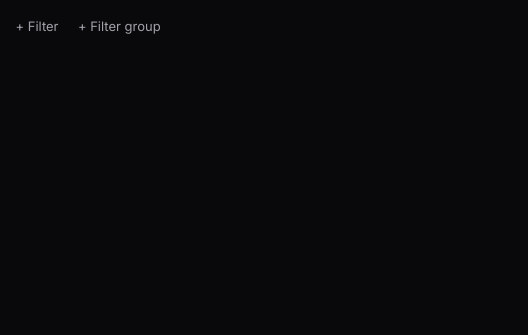
Test: FilterEditor › test property and operator are menus: icon + name rows, a check on the current one
Click the button "+ Filter": (37, 27) [8,14,66,41]
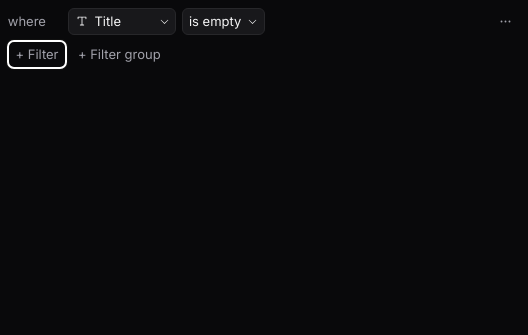
Click the button with aria-label "Property": (122, 21) [68,8,176,35]
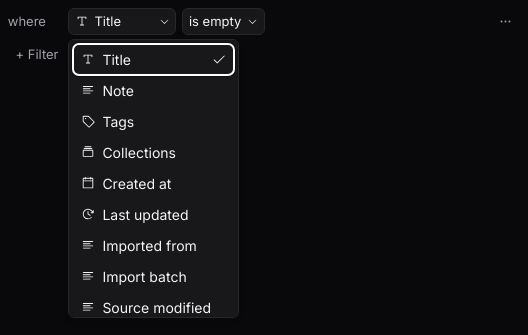
Click the menu item "Note": (153, 90) [73,75,234,106]
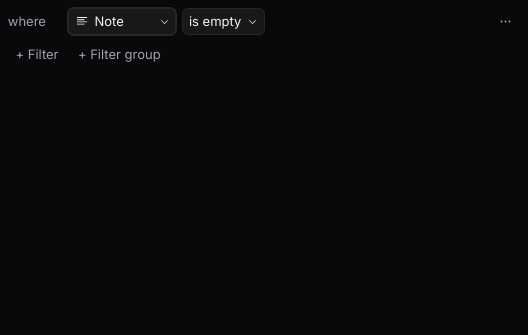
Expected: the button with aria-label "Property" reads "Note", [68,8,176,35]
